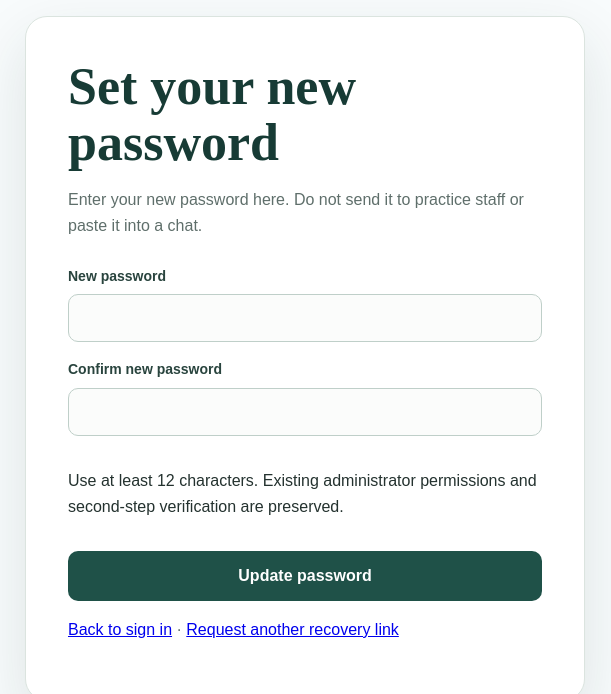
Scenario: mismatched and short passwords are rejected without update
The width and height of the screenshot is (611, 694).
Type "synthetic-test-only-123" into the password field labelled "New password" at (305, 318), box [68,294,542,342]
Type "synthetic-test-only-123" into the password field labelled "Confirm new password" at (305, 412), box [68,388,542,436]
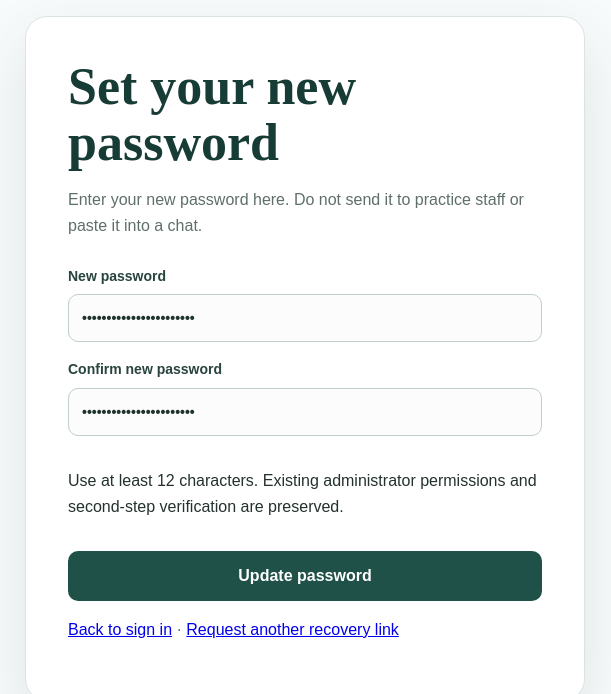
Type "different-password" into the password field labelled "Confirm new password" at (305, 412), box [68,388,542,436]
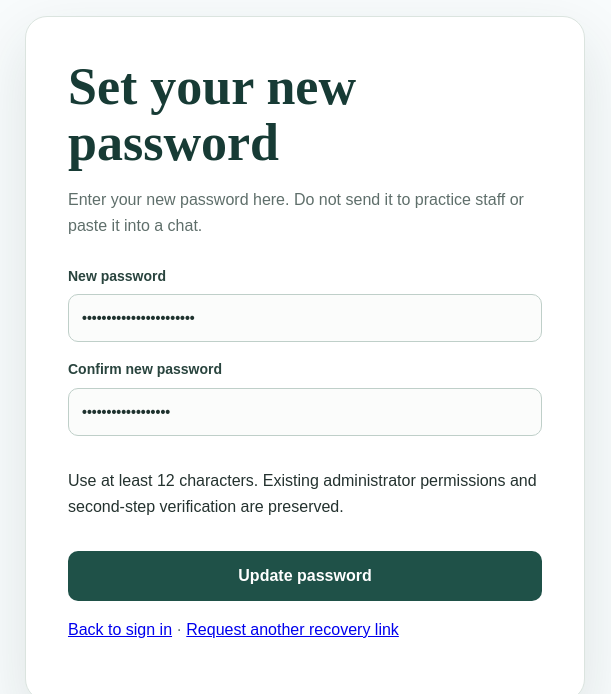
Click the button "Update password" at (305, 576), box [68,551,542,601]
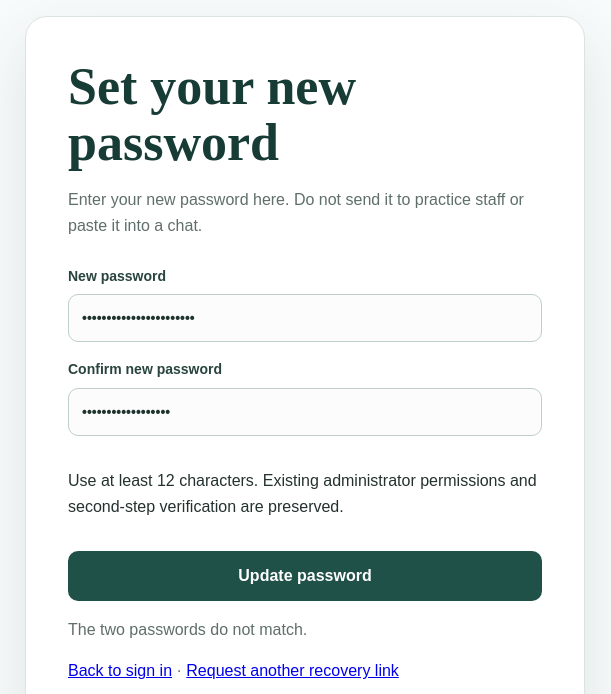
Expected: the text "The two passwords do not match." is shown, [68,621,307,638]
Type "short" into the password field labelled "New password" at (305, 318), box [68,294,542,342]
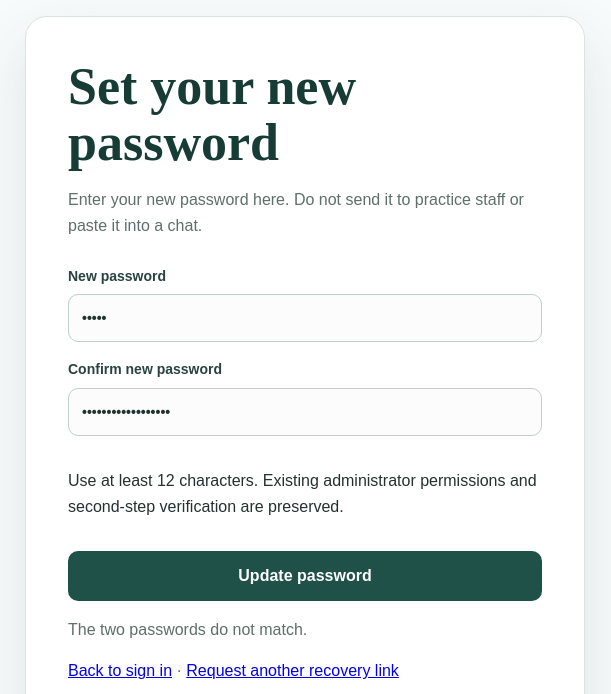
Type "short" into the password field labelled "Confirm new password" at (305, 412), box [68,388,542,436]
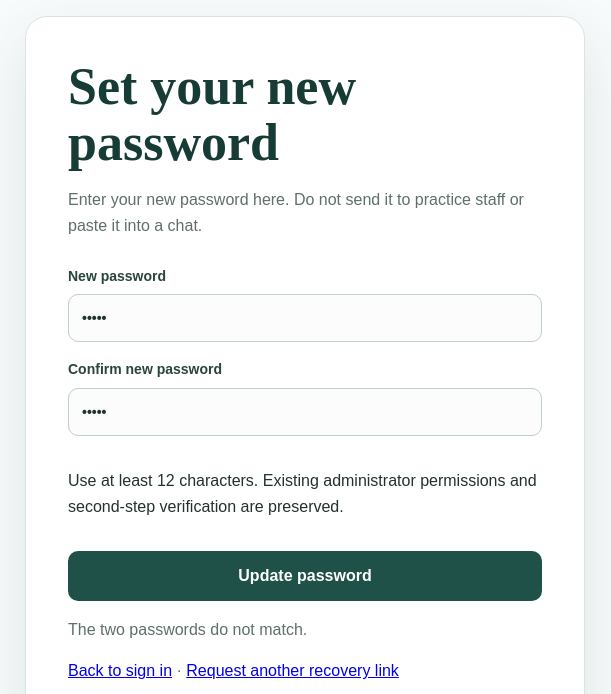
Submit the form named "Update password", box [68,264,542,601]
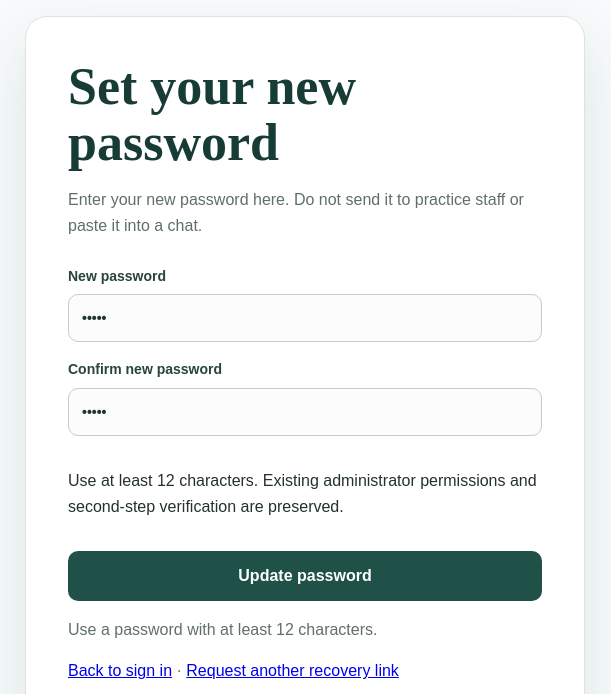
Expected: the text "Use a password with at least 12 characters." is shown, [68,621,378,638]
